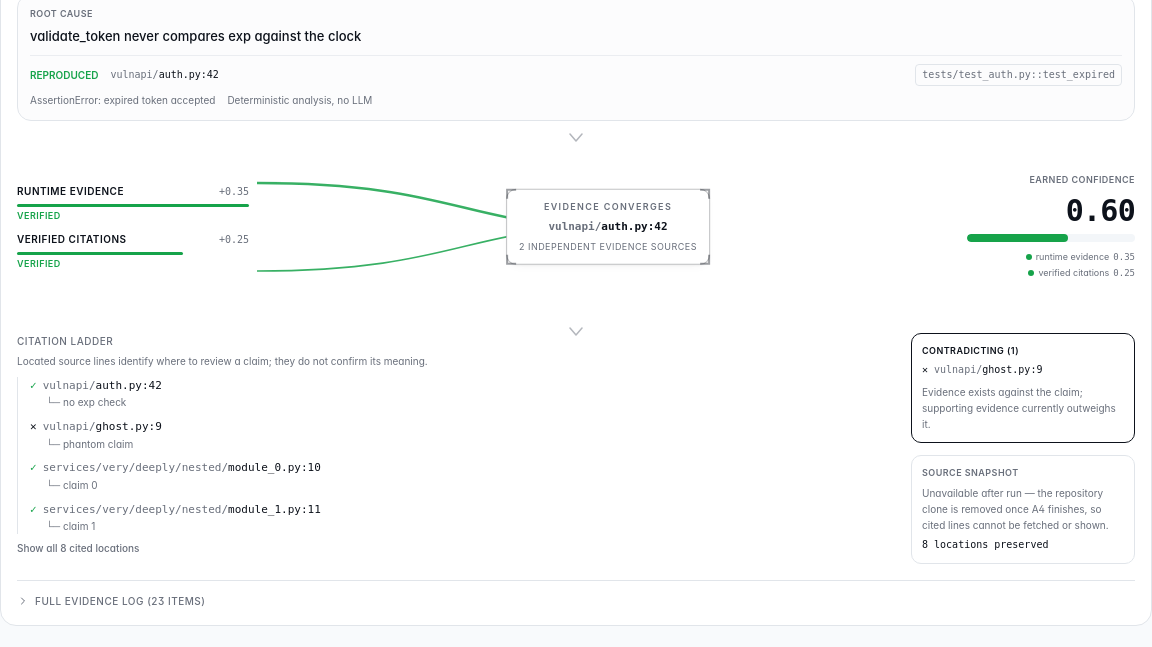
it: EvidenceInvestigationBoard — repository scale › keeps a long category capped inside the evidence log
Click the button "Full evidence log (23 items)" at (93, 601), box 17,593 -> 1135,609
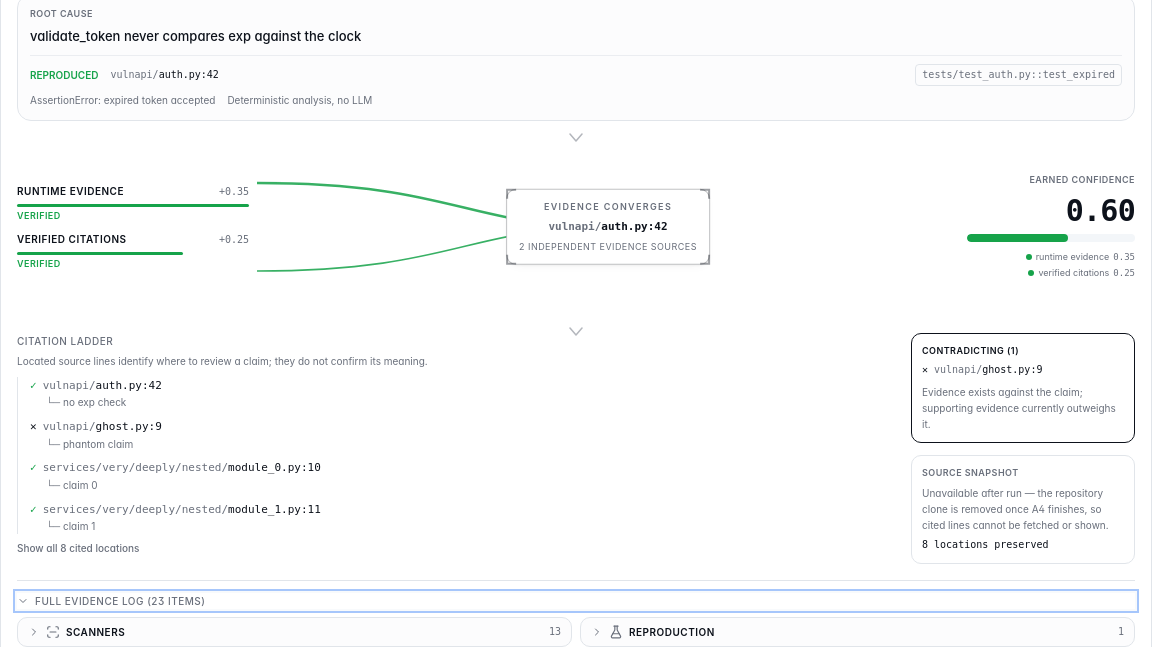
Click the button "Scanners 13" at (96, 632), box 18,618 -> 571,646
(page scrolled)
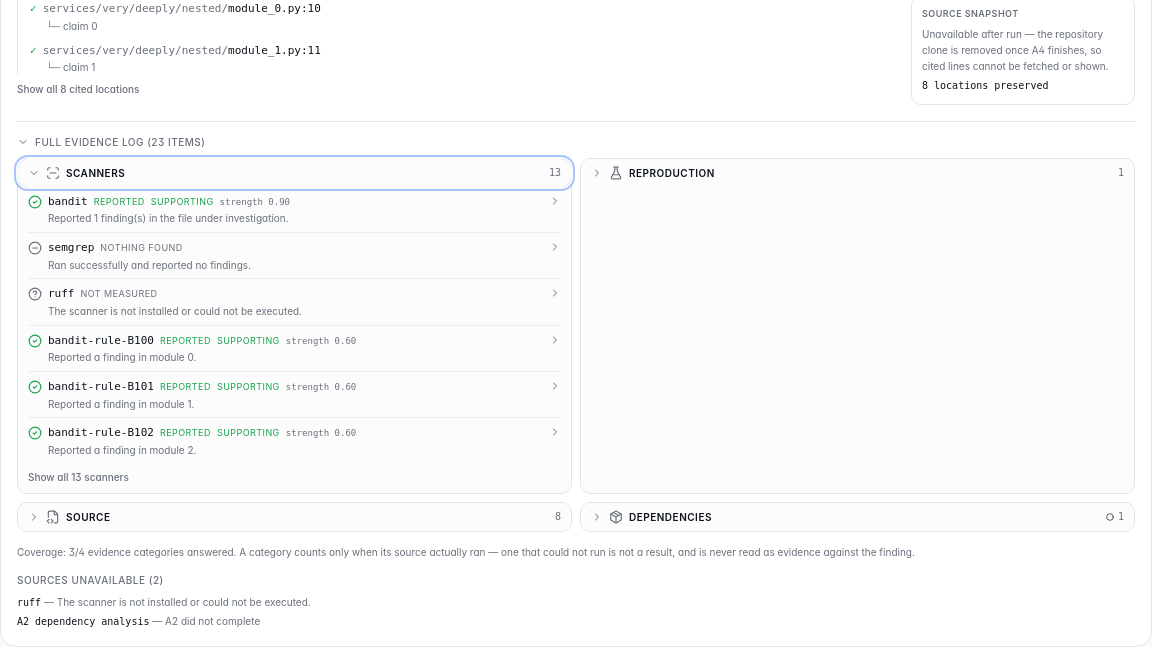
Expected: the text "bandit-rule-B109" is not shown
Click the button "Show all 13 scanners" at (78, 477), box 28,465 -> 561,489
(page scrolled)
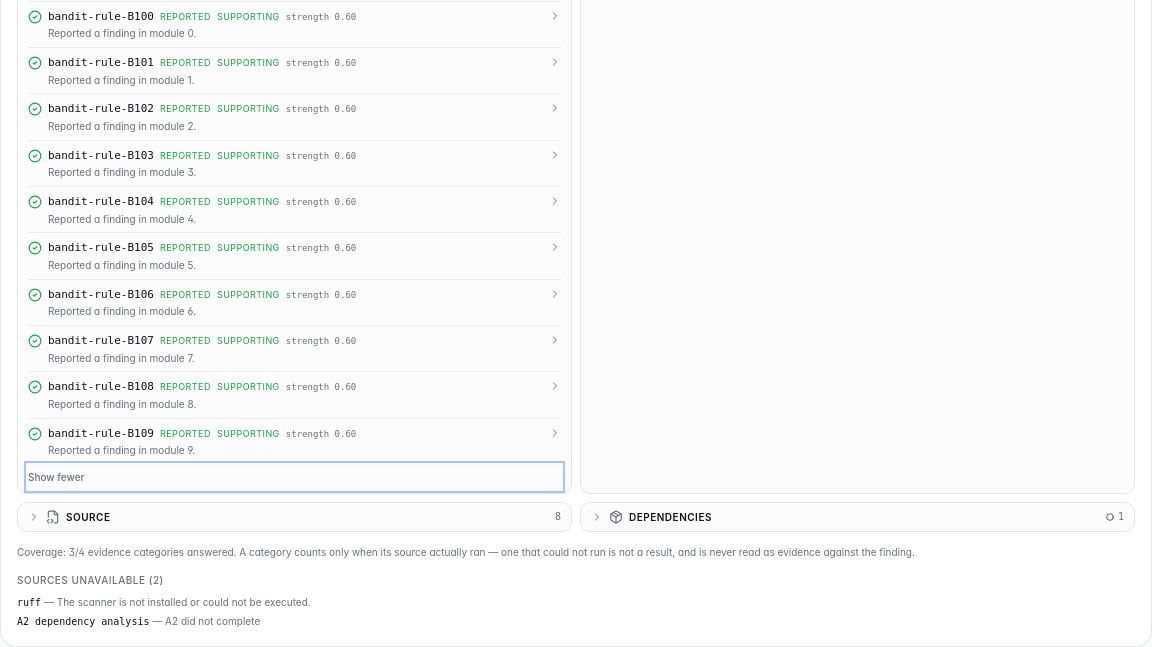
Expected: the text "bandit-rule-B109" is shown, 48,425 -> 154,442
